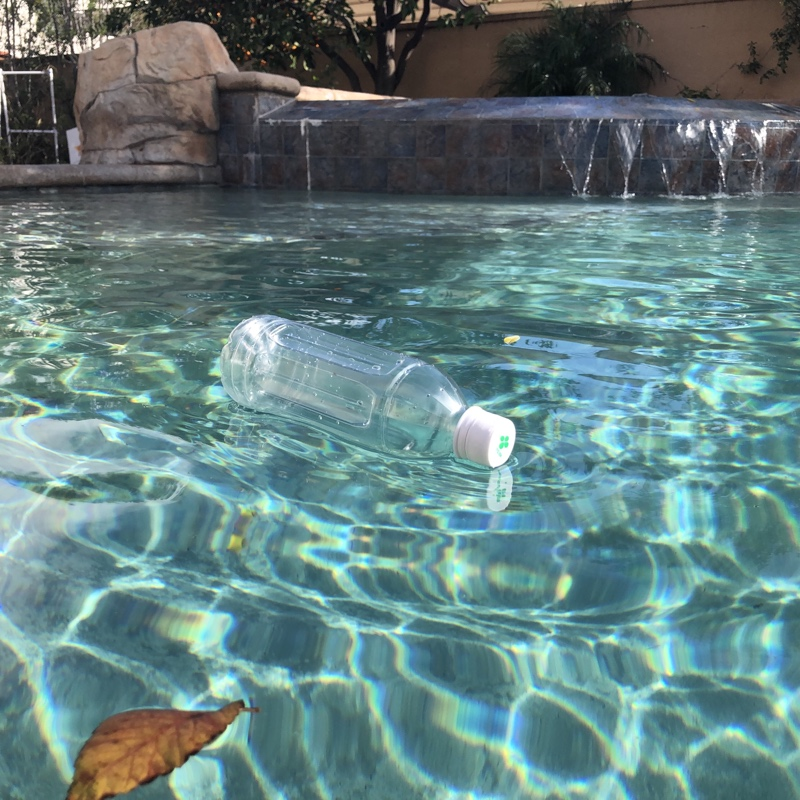Plastic Bottle: (216, 306, 522, 481)
